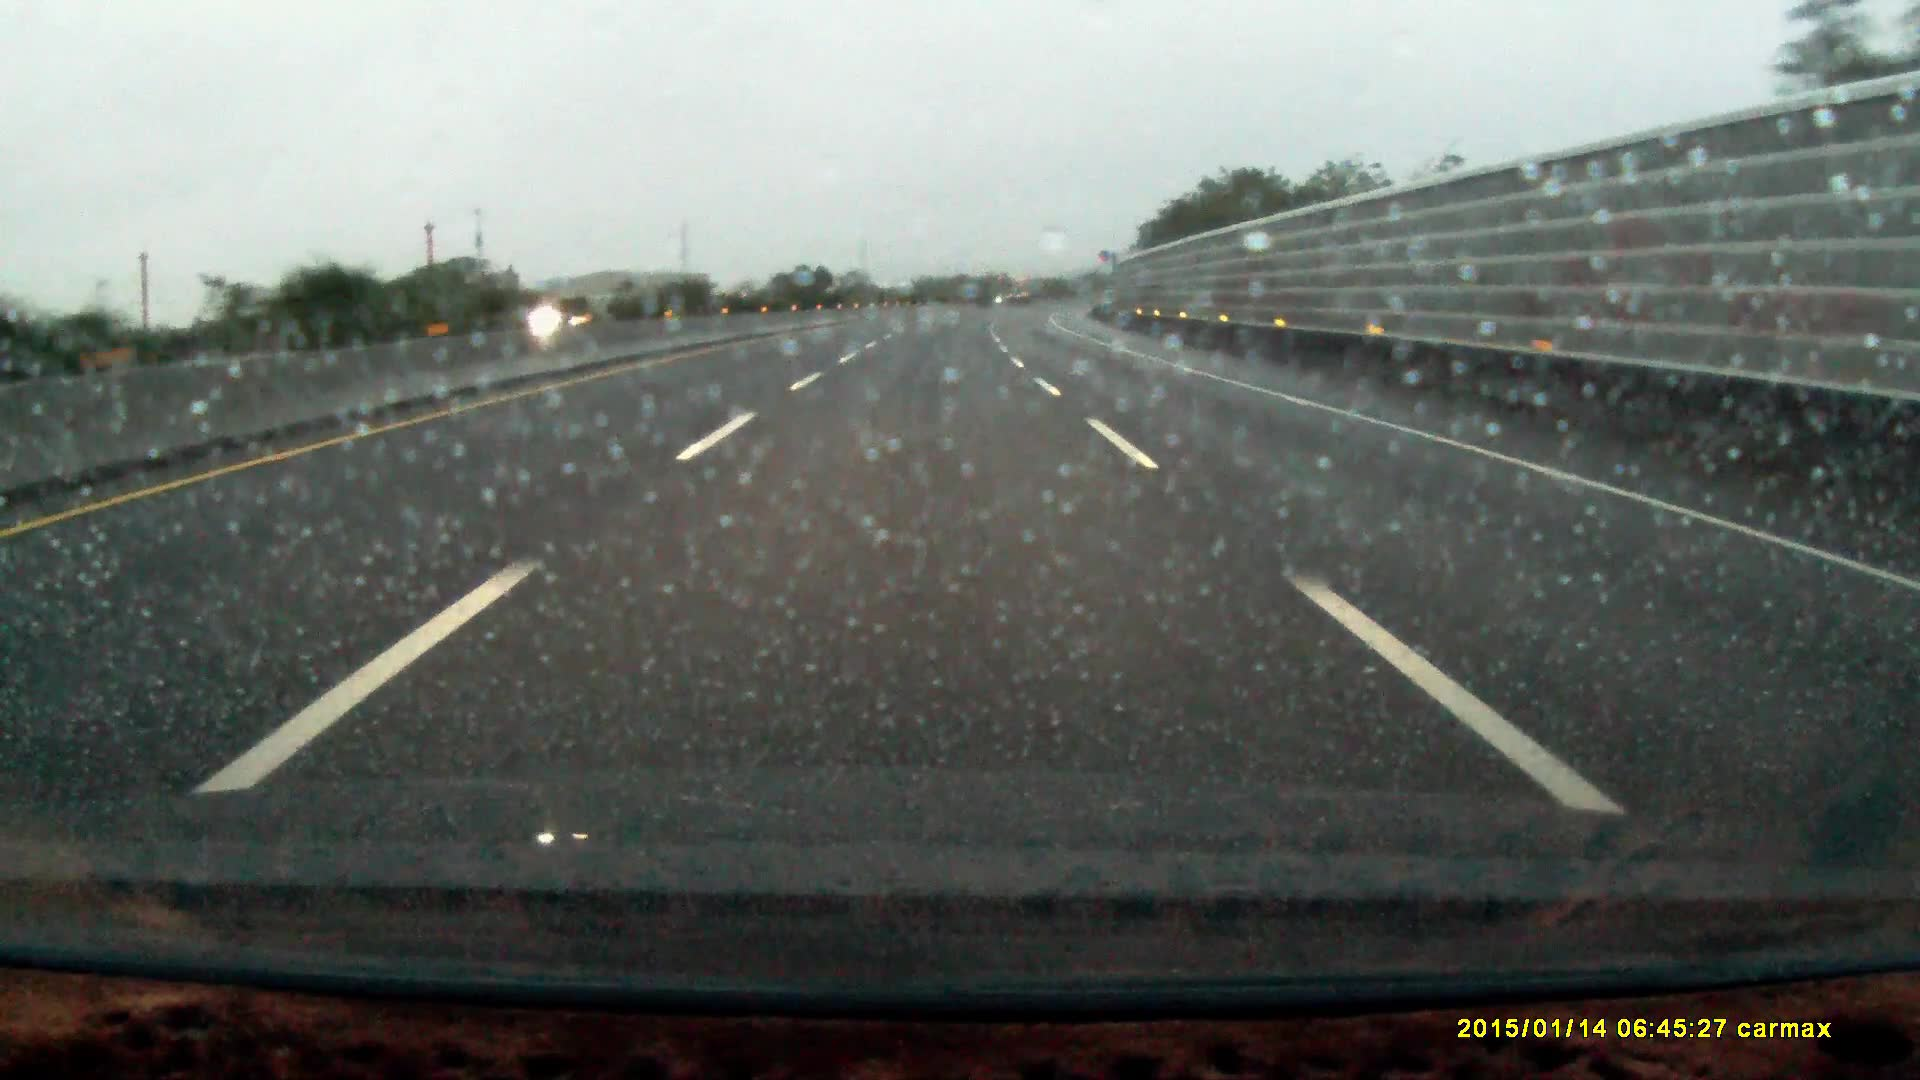vehicle: (516, 303, 593, 332)
